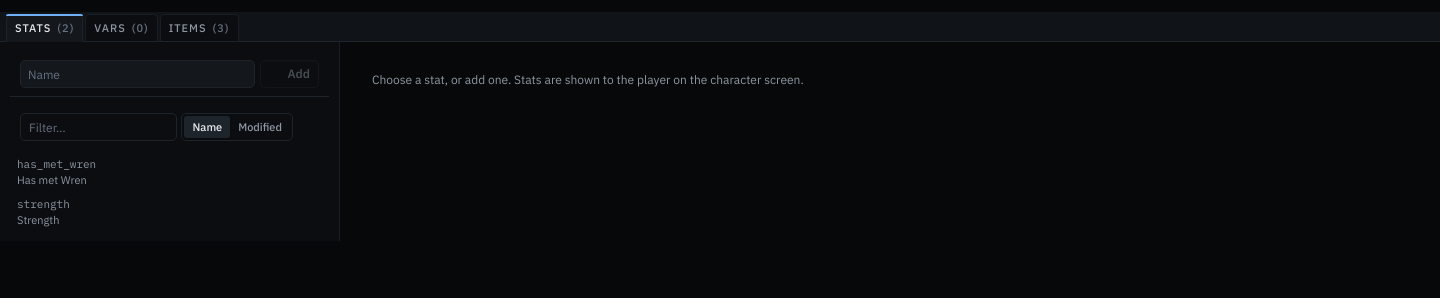
Test: StatsPanel › lists every item, ungrouped
This screenshot has width=1440, height=298.
What coordinates should you click on to do the following:
click the tab "Items (3)"
I would click on:
 (199, 28)
Its box is [160, 14, 238, 42].
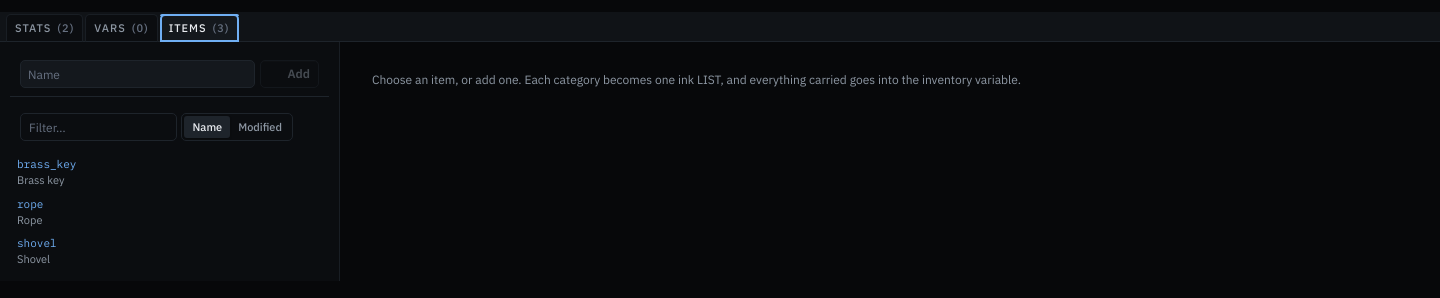
Expected: the text "shovel" is shown, [17, 236, 57, 251]
Expected: the text "rope" is shown, [17, 197, 43, 212]
Expected: the text "brass_key" is shown, [17, 157, 76, 172]
